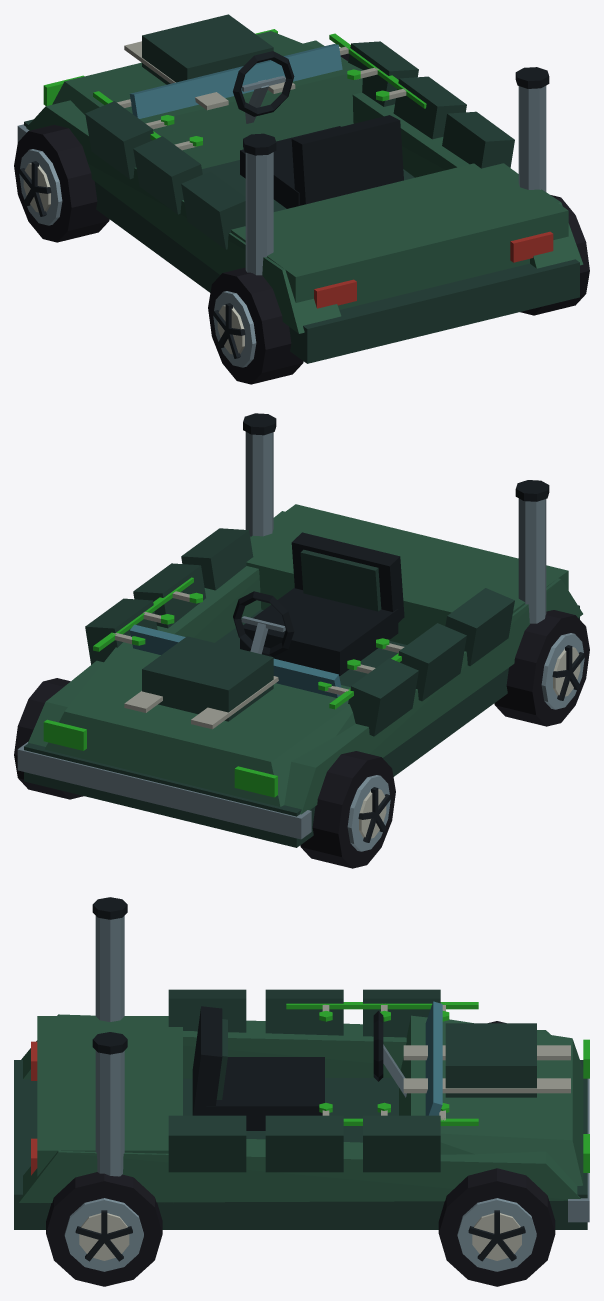
File: kart.glb
The picture shows the model from 3 angles, top to bottom: view 1: azimuth 30°, elevation 25°; view 2: azimuth 150°, elevation 25°; view 3: azimuth 270°, elevation 25°; orthographic projection.
Visible parts, largest first — view 1: identity-muscle-car-muscle-car-road-car-body, identity-muscle-car-motif-armor, identity-muscle-car-driver-cockpit, wheel-front-left, wheel-rear-left, identity-muscle-car-motif-exhaust, identity-muscle-car-motif-circuit, wheel-rear-right; view 2: identity-muscle-car-muscle-car-road-car-body, identity-muscle-car-motif-armor, identity-muscle-car-driver-cockpit, wheel-front-left, wheel-rear-left, identity-muscle-car-motif-exhaust, identity-muscle-car-motif-circuit, wheel-front-right; view 3: identity-muscle-car-muscle-car-road-car-body, identity-muscle-car-motif-armor, wheel-front-right, identity-muscle-car-driver-cockpit, wheel-rear-right, identity-muscle-car-motif-exhaust, identity-muscle-car-motif-circuit.
Part boxes in pixels (left/top/right/bottom): identity-muscle-car-muscle-car-road-car-body: left=17, top=14, right=583, bottom=363; identity-muscle-car-motif-armor: left=85, top=41, right=514, bottom=249; identity-muscle-car-driver-cockpit: left=233, top=51, right=403, bottom=208; wheel-front-left: left=14, top=124, right=109, bottom=242; wheel-rear-left: left=208, top=267, right=303, bottom=384; identity-muscle-car-motif-exhaust: left=243, top=67, right=549, bottom=275; identity-muscle-car-motif-circuit: left=93, top=33, right=426, bottom=150; wheel-rear-right: left=520, top=195, right=589, bottom=315; identity-muscle-car-muscle-car-road-car-body: left=17, top=504, right=582, bottom=847; identity-muscle-car-motif-armor: left=85, top=528, right=514, bottom=736; identity-muscle-car-driver-cockpit: left=233, top=532, right=404, bottom=676; wheel-front-left: left=300, top=751, right=395, bottom=868; wheel-rear-left: left=494, top=610, right=589, bottom=726; identity-muscle-car-motif-exhaust: left=243, top=413, right=549, bottom=623; identity-muscle-car-motif-circuit: left=93, top=577, right=404, bottom=709; wheel-front-right: left=14, top=678, right=83, bottom=799; identity-muscle-car-muscle-car-road-car-body: left=14, top=1001, right=589, bottom=1229; identity-muscle-car-motif-armor: left=168, top=989, right=440, bottom=1172; wheel-front-right: left=438, top=1168, right=555, bottom=1286; identity-muscle-car-driver-cockpit: left=192, top=1006, right=406, bottom=1130; wheel-rear-right: left=46, top=1172, right=162, bottom=1286; identity-muscle-car-motif-exhaust: left=92, top=897, right=127, bottom=1176; identity-muscle-car-motif-circuit: left=286, top=1002, right=478, bottom=1125.
Size of the model in its own units: 2.07 by 1.33 by 2.96.
